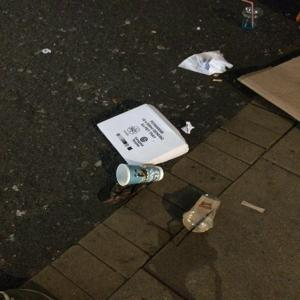cardboard: (90, 97, 199, 163), (112, 160, 171, 188)
paper: (180, 119, 204, 138)
plastic: (179, 41, 238, 83), (182, 193, 224, 236), (172, 227, 203, 247)
